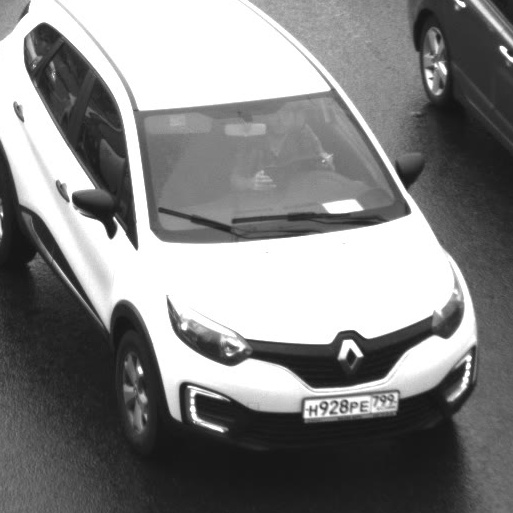plate: (293, 378, 408, 427)
